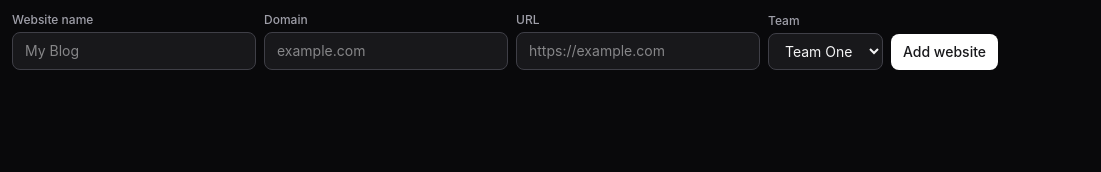
AddWebsiteForm › shows the server error and keeps the form values
The image size is (1101, 172).
In the field labelled "Website name": (134,51) left=12, top=32, right=256, bottom=70, type "Dup"
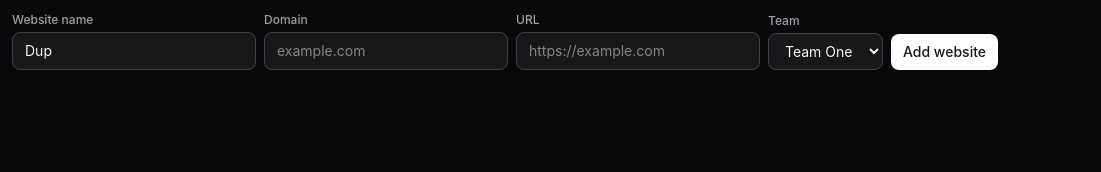
In the field labelled "Domain": (386,51) left=264, top=32, right=508, bottom=70, type "dup.example"
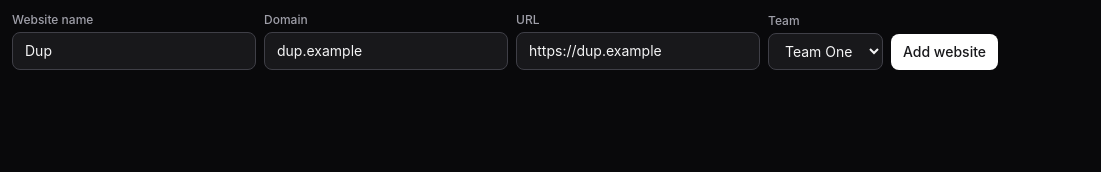
Click the button "Add website": (944,52) left=891, top=34, right=998, bottom=70
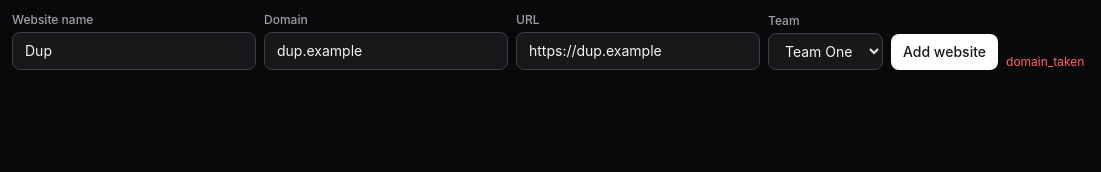
Now the message reads "domain_taken", box left=1006, top=54, right=1084, bottom=69
